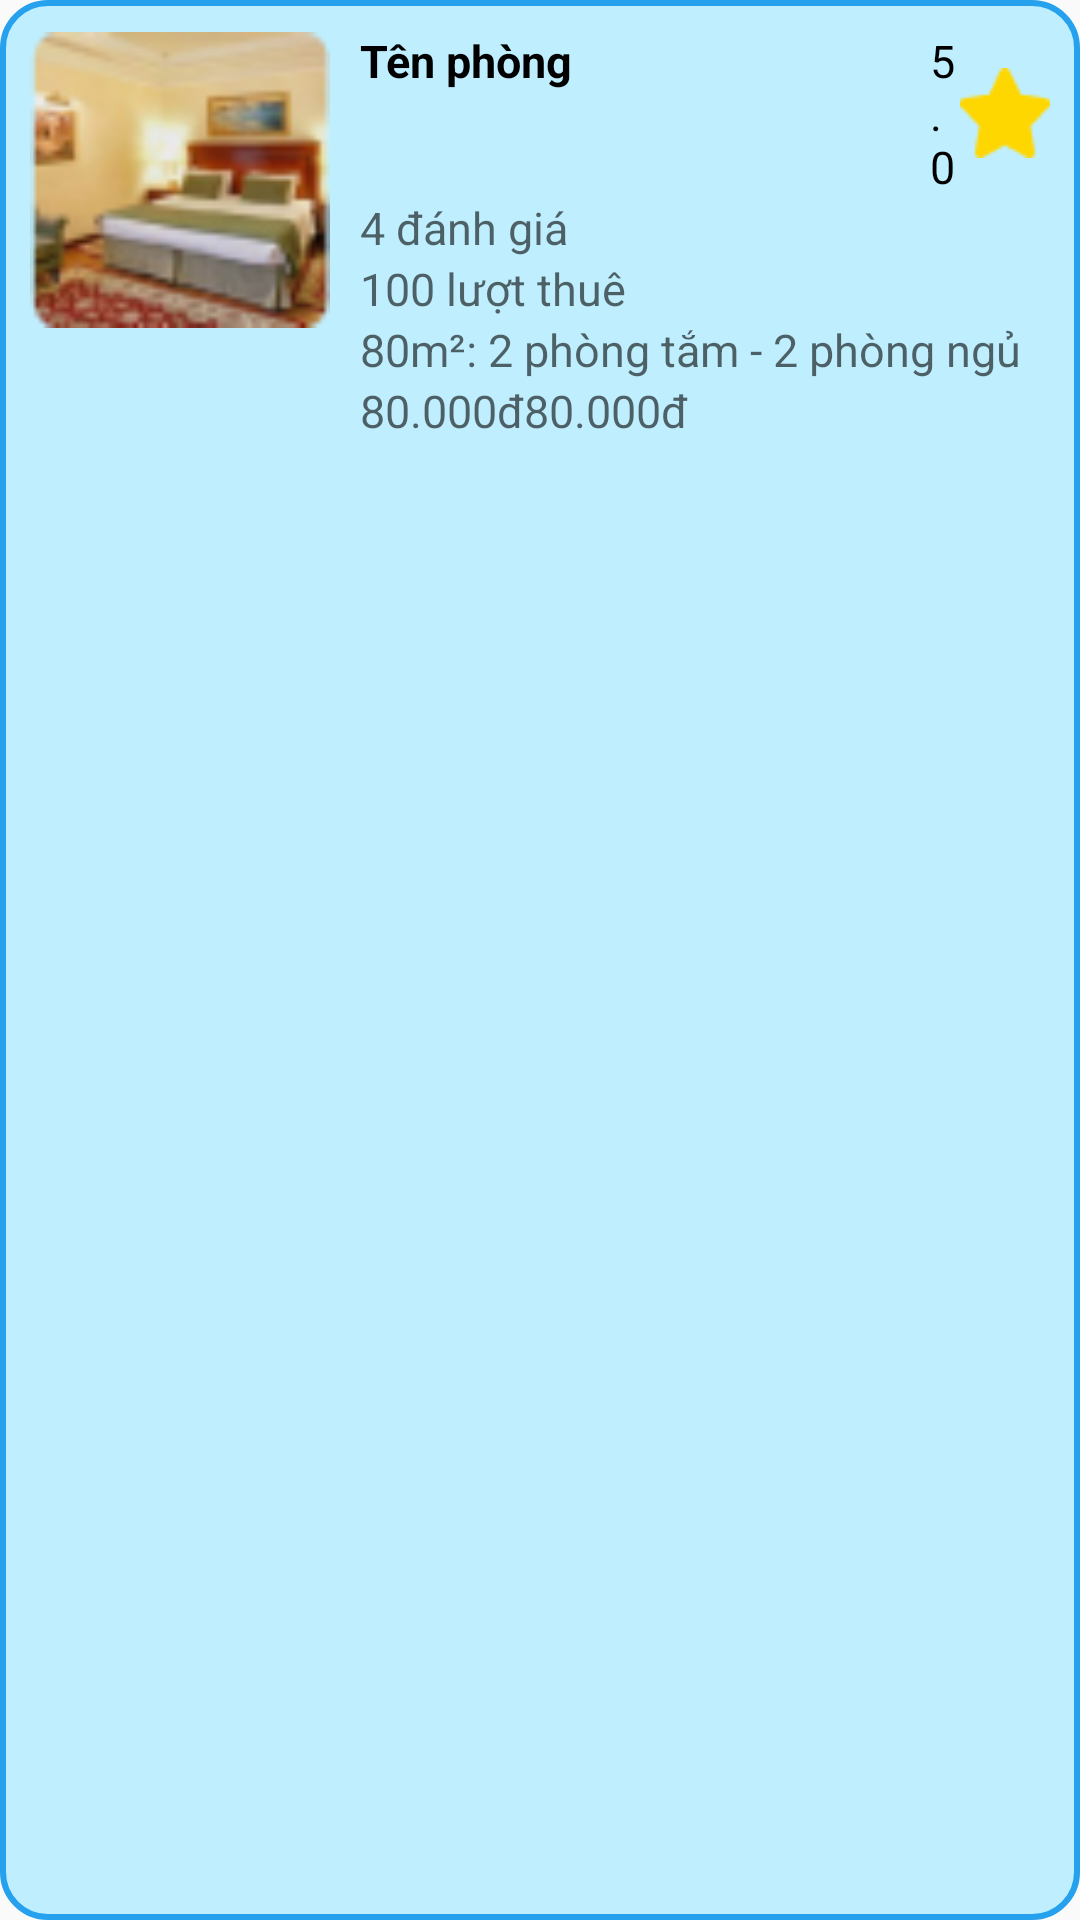

Where to tap for icons on this 1080×1920 app screen, as point (x, y):
phong example: point (180, 180)
